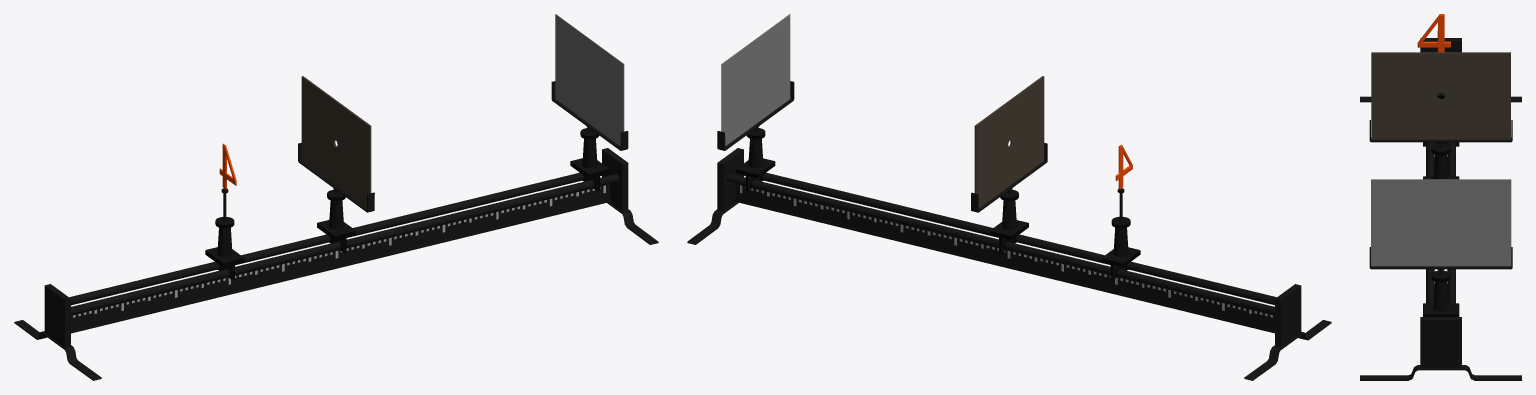
Rendered from xccx_all.obj.
3 renders of one model, left to right at view 1: azimuth 30°, elevation 25°; view 2: azimuth 150°, elevation 25°; view 3: azimuth 270°, elevation 25°, orthographic. The views are drawn at different scales.
Parts seen in each view (by area): view 1: xiaokongchengxiang xkcx_guanzi, xiaokongchengxiang xkcx_chizi, xkcx_dangban xiaokongchengxiang, xiaokongchengxiang xkcx_guangping, xiaokongchengxiang xkcx_dizuo_back, xiaokongchengxiang xkcx_hengla_guangping, xiaokongchengxiang xkcx_hengla_dangban, xiaokongchengxiang xkcx_dizuo_front, xiaokongchengxiang xkcx_hengla_4; view 2: xiaokongchengxiang xkcx_guanzi, xiaokongchengxiang xkcx_chizi, xkcx_dangban xiaokongchengxiang, xiaokongchengxiang xkcx_guangping, xiaokongchengxiang xkcx_dizuo_back, xiaokongchengxiang xkcx_hengla_guangping, xiaokongchengxiang xkcx_hengla_dangban, xiaokongchengxiang xkcx_dizuo_front, xiaokongchengxiang xkcx_hengla_4; view 3: xiaokongchengxiang xkcx_guangping, xkcx_dangban xiaokongchengxiang, xiaokongchengxiang xkcx_dizuo_front, xiaokongchengxiang xkcx_hengla_guangping, xiaokongchengxiang xkcx_hengla_dangban, xiaokongchengxiang xkcx_guanzi, xiaokongchengxiang xkcx_4, xiaokongchengxiang xkcx_dizuo_back.
Boxes of the visible parts, left/top/right/bottom form: xiaokongchengxiang xkcx_guanzi: left=69, top=166, right=619, bottom=333; xiaokongchengxiang xkcx_chizi: left=71, top=184, right=609, bottom=330; xkcx_dangban xiaokongchengxiang: left=301, top=76, right=371, bottom=208; xiaokongchengxiang xkcx_guangping: left=555, top=14, right=624, bottom=146; xiaokongchengxiang xkcx_dizuo_back: left=14, top=284, right=101, bottom=380; xiaokongchengxiang xkcx_hengla_guangping: left=551, top=81, right=628, bottom=191; xiaokongchengxiang xkcx_hengla_dangban: left=298, top=143, right=374, bottom=252; xiaokongchengxiang xkcx_dizuo_front: left=602, top=148, right=658, bottom=244; xiaokongchengxiang xkcx_hengla_4: left=205, top=188, right=244, bottom=280; xiaokongchengxiang xkcx_guanzi: left=726, top=166, right=1276, bottom=333; xiaokongchengxiang xkcx_chizi: left=736, top=184, right=1274, bottom=330; xkcx_dangban xiaokongchengxiang: left=974, top=76, right=1044, bottom=208; xiaokongchengxiang xkcx_guangping: left=721, top=14, right=790, bottom=146; xiaokongchengxiang xkcx_dizuo_back: left=1244, top=284, right=1331, bottom=380; xiaokongchengxiang xkcx_hengla_guangping: left=717, top=81, right=794, bottom=191; xiaokongchengxiang xkcx_hengla_dangban: left=971, top=143, right=1047, bottom=252; xiaokongchengxiang xkcx_dizuo_front: left=687, top=148, right=743, bottom=244; xiaokongchengxiang xkcx_hengla_4: left=1101, top=188, right=1140, bottom=280; xiaokongchengxiang xkcx_guangping: left=1371, top=179, right=1511, bottom=266; xkcx_dangban xiaokongchengxiang: left=1371, top=52, right=1510, bottom=139; xiaokongchengxiang xkcx_dizuo_front: left=1360, top=317, right=1521, bottom=380; xiaokongchengxiang xkcx_hengla_guangping: left=1369, top=247, right=1512, bottom=316; xiaokongchengxiang xkcx_hengla_dangban: left=1369, top=120, right=1512, bottom=179; xiaokongchengxiang xkcx_guanzi: left=1426, top=142, right=1455, bottom=303; xiaokongchengxiang xkcx_4: left=1417, top=14, right=1450, bottom=52; xiaokongchengxiang xkcx_dizuo_back: left=1360, top=38, right=1521, bottom=102.
Size of the model in its own units: 107 by 32.96 by 25.88.
